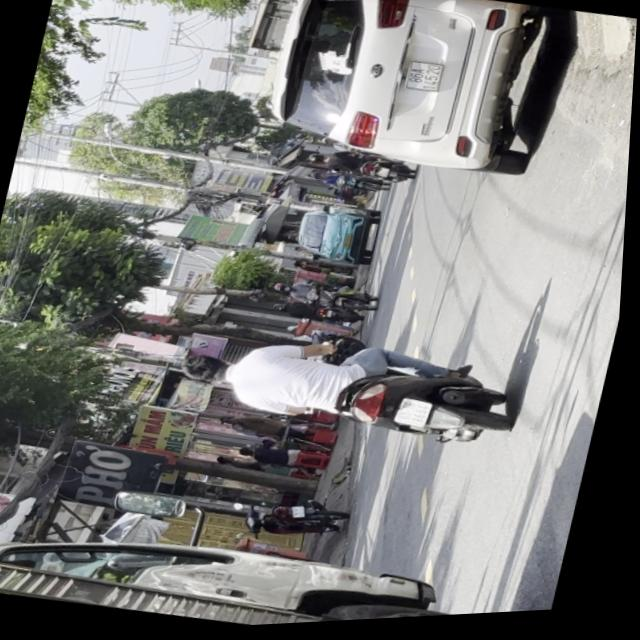licenseplate: (170, 310, 530, 473)
motorcyclist: (180, 352, 239, 392)
nohelmet: (397, 400, 437, 434)
